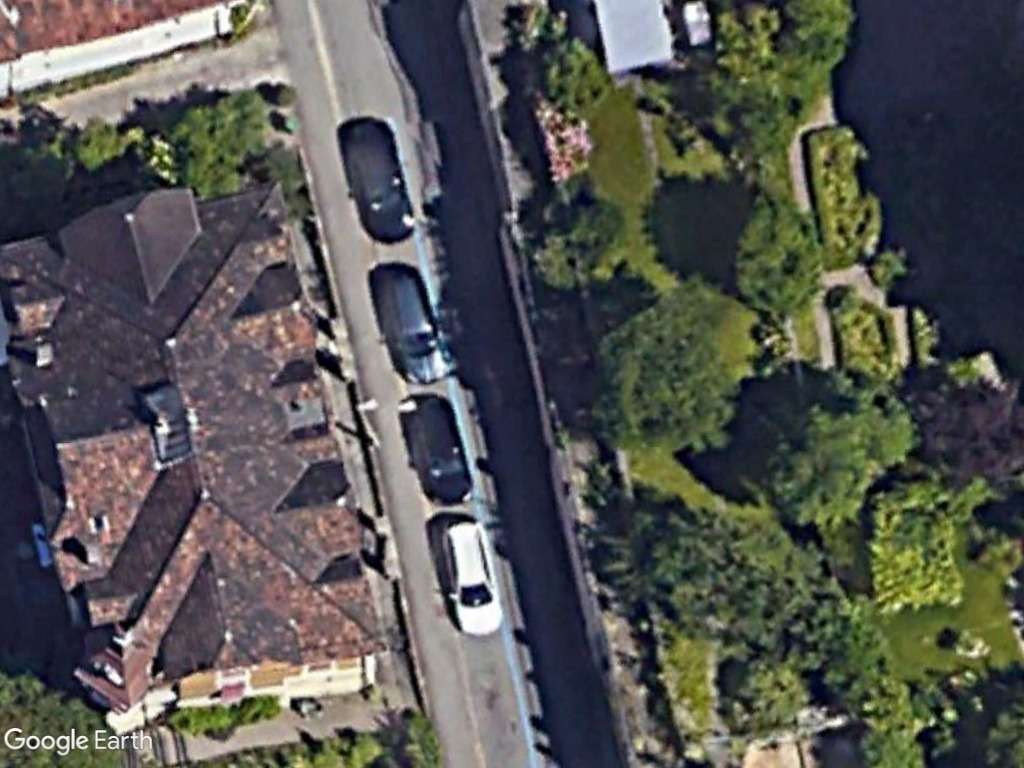car: (440, 517, 505, 639)
